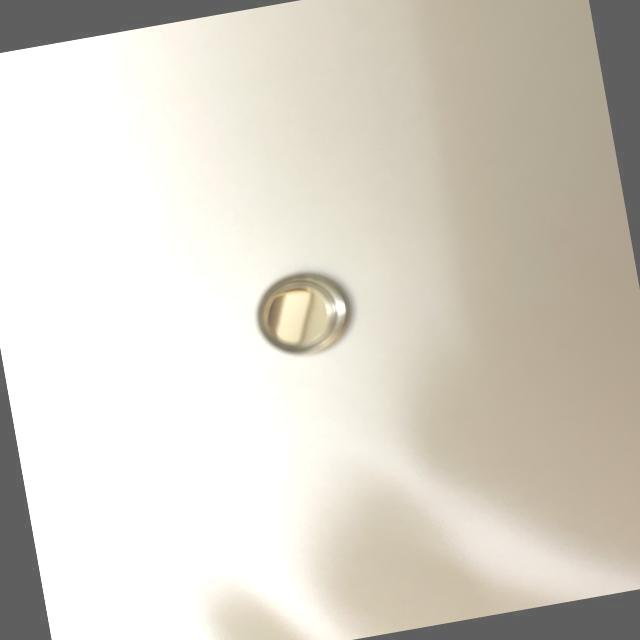COIN: (246, 264, 359, 364)
